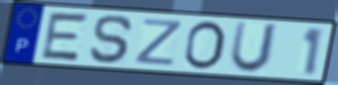1: (300, 26, 325, 78)
E: (38, 11, 92, 63)
O: (181, 19, 228, 71)
S: (87, 13, 136, 65)
U: (227, 20, 282, 76)
Z: (132, 17, 186, 68)
